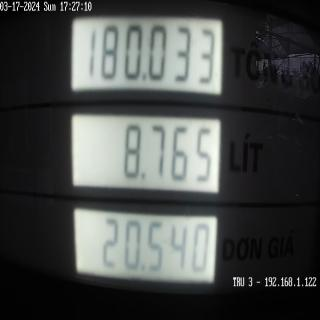screen: (65, 2, 231, 309)
